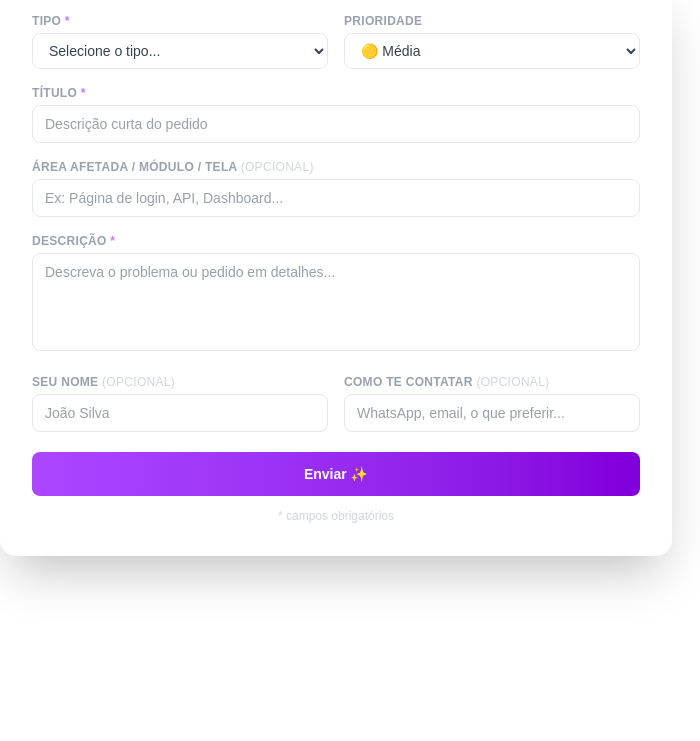
Test: RequestForm › shows bug-specific fields only when type is bug
Note: Select bug type
Select "🐛 Bug" in the dropdown with test id "ticket-type" at (180, 51), box [32,33,328,69]
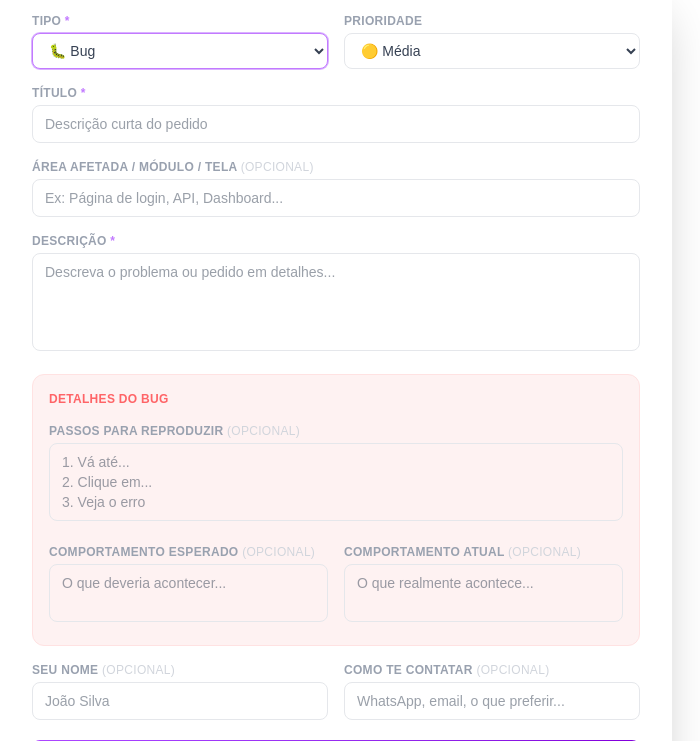
Expected: the text box with test id "steps-to-reproduce" is shown, [49,443,623,521]
Expected: the text box with test id "expected-behavior" is shown, [49,564,328,622]
Expected: the text box with test id "actual-behavior" is shown, [344,564,623,622]
Note: Switch to non-bug type
Select "❓ Dúvida" in the dropdown with test id "ticket-type" at (180, 51), box [32,33,328,69]
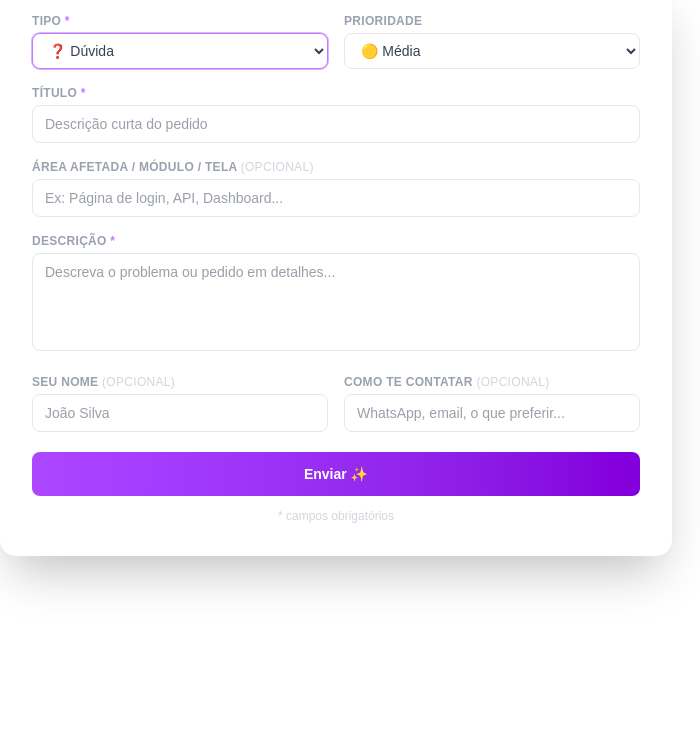
Expected: the text box with test id "steps-to-reproduce" is gone
